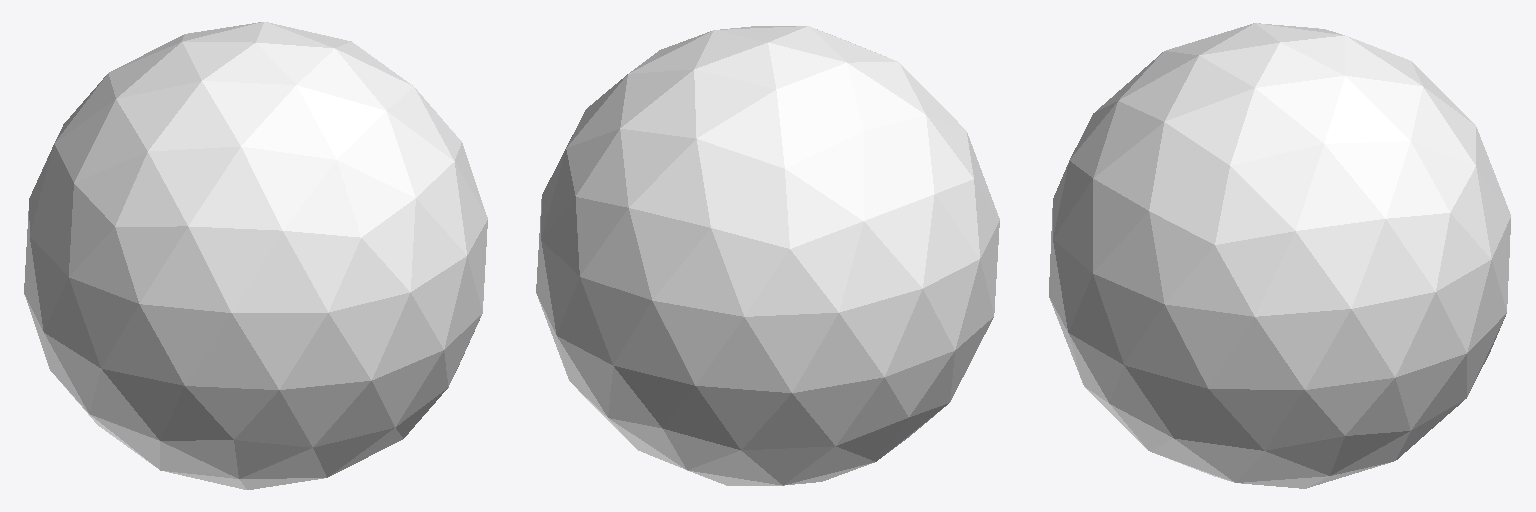
Rendered from GeoDome.obj.
3 renders of one model, left to right at view 1: azimuth 30°, elevation 25°; view 2: azimuth 150°, elevation 25°; view 3: azimuth 270°, elevation 25°, orthographic.
Visible parts, largest first — view 1: F3:GeoDome8; view 2: F3:GeoDome8; view 3: F3:GeoDome8.
Boxes of the visible parts, <box> form: F3:GeoDome8: <box>24,22,487,489</box>; F3:GeoDome8: <box>536,26,999,485</box>; F3:GeoDome8: <box>1049,23,1510,488</box>.
Size of the model in its own units: 1.96 by 2 by 1.96.